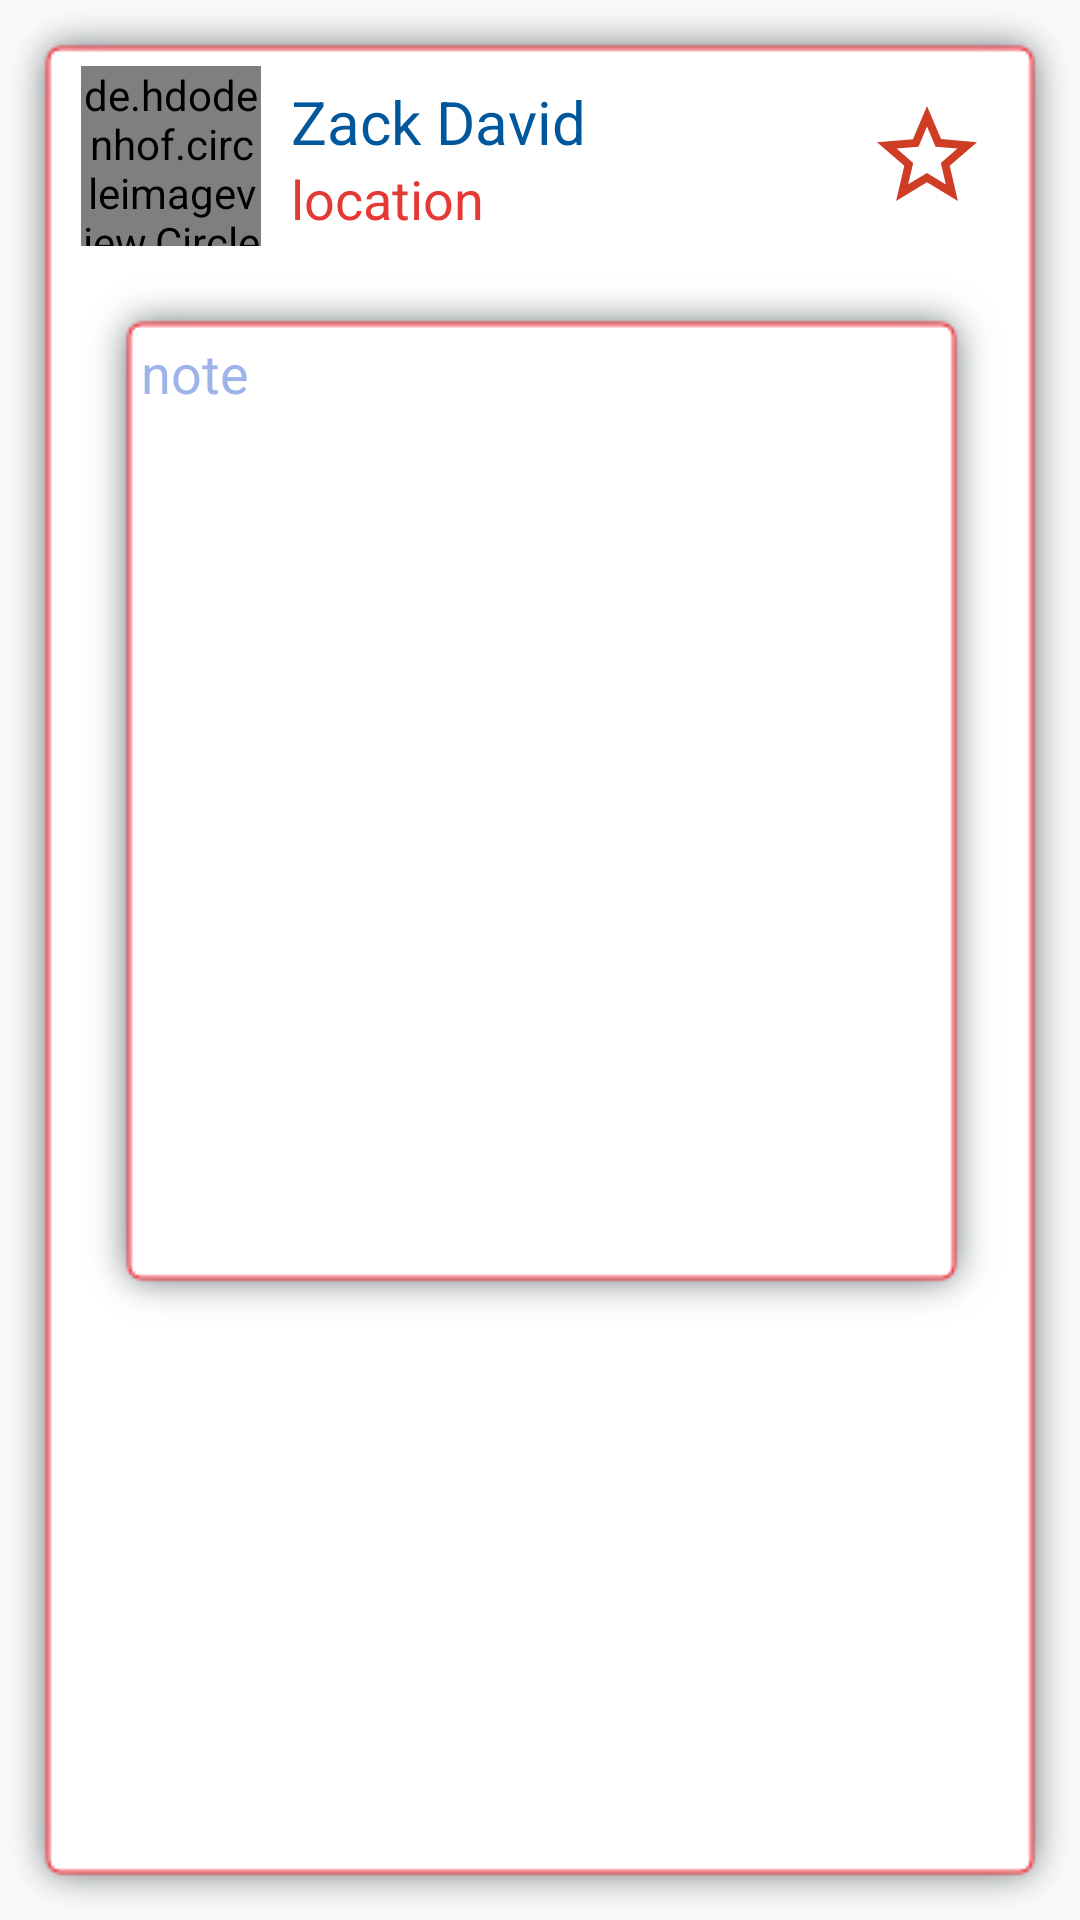

Locate icon controls on the screen. Image size 1080px×1920px, boxes as (x1, y1, x2, y2).
like: (877, 106, 977, 201)
